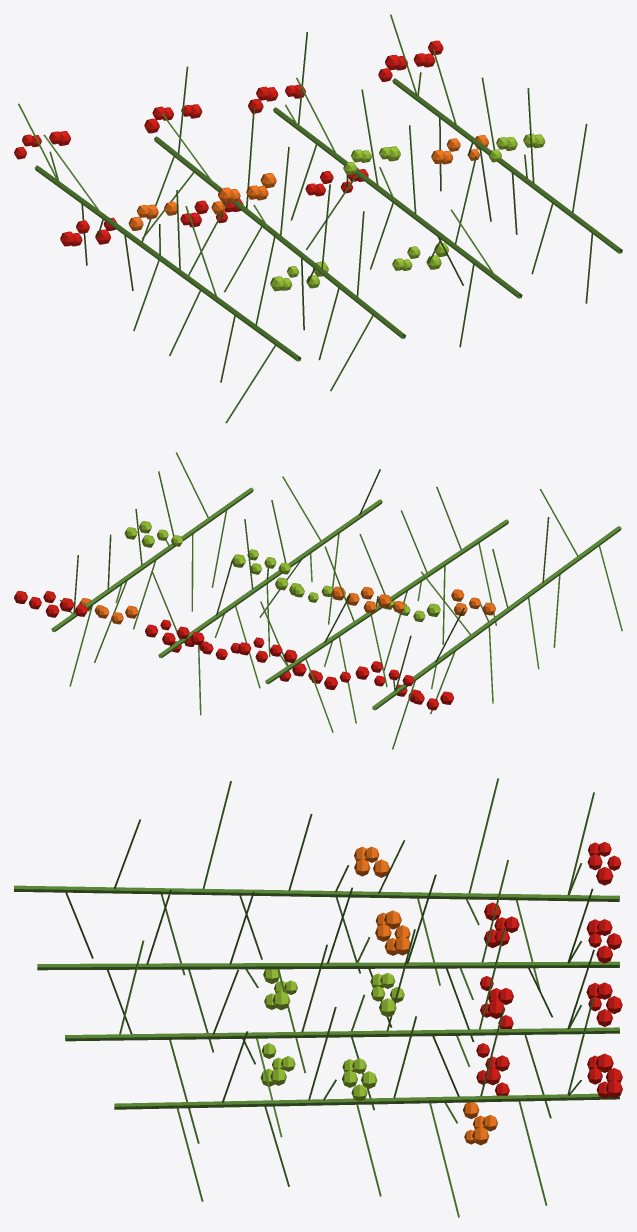
File: r15c5_stems.obj
3 views of the same model, one above another, from view 1: azimuth 30°, elevation 25°; view 2: azimuth 150°, elevation 25°; view 3: azimuth 270°, elevation 25° (orthographic). The views are drawn at different scales.
Parts seen in each view (by area): view 1: r15c5_stems; view 2: r15c5_stems; view 3: r15c5_stems.
Boxes of the visible parts, x1,y1,x2,y2 form: r15c5_stems: (14,14,622,423); r15c5_stems: (14,452,622,749); r15c5_stems: (14,778,622,1217).
Bounding box in the file's own units: 2.15 × 0.8834 × 2.22.
